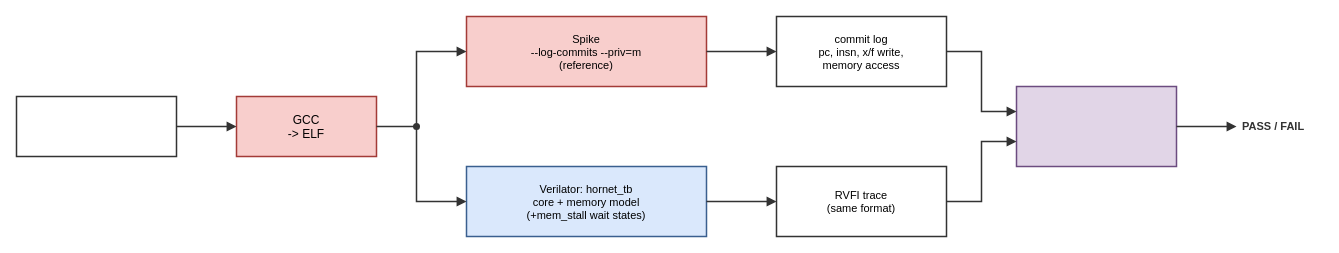
Image size: 1339x253. Some labels were removed from this diagram. Here are the shapes that lost their labels. From the top down, the box of each, then its label:
(15, 95, 177, 157): program (riscv-tests, random, RISCV-DV)
(1015, 85, 1177, 167): compare line by line (cycle/time reads masked)
